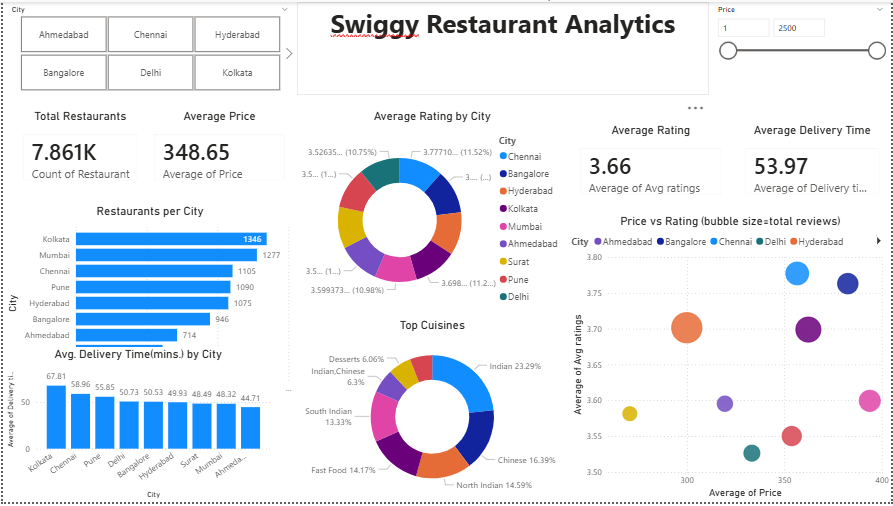

The page's visual inventory and layout, read from the dashboard file:
{"tool":"powerbi","page":{"name":"Page 1","canvas":[1280,720],"ordinal":0},"visuals":[{"type":"cardVisual","title":"Total Restaurants","fields":{"Data":["Count(swiggy.Restaurant)"]},"box":[11.8,154.5,199.9,120.9],"z":0},{"type":"cardVisual","title":"Average Price","fields":{"Data":["Avg(swiggy.Price)"]},"box":[199.9,154.5,223.4,120.9],"z":1000},{"type":"cardVisual","title":"Average Rating","fields":{"Data":["Avg(swiggy.Avg ratings)"]},"box":[813,174.7,238.5,120.9],"z":2000},{"type":"cardVisual","title":"Average Delivery Time","fields":{"Data":["Avg(swiggy.Delivery time)"]},"box":[1051.5,174.7,228.5,120.9],"z":3000},{"type":"barChart","title":"Restaurants per City","fields":{"Category":["swiggy.City"],"Y":["CountNonNull(swiggy.Restaurant)"]},"box":[0,290.6,423.3,295.6],"z":4000},{"type":"donutChart","title":"Average Rating by City","fields":{"Category":["swiggy.City"],"Y":["Avg(swiggy.Avg ratings)"]},"box":[423.3,154.5,389.7,300.7],"z":5000},{"type":"columnChart","title":"Avg. Delivery Time(mins.) by City","fields":{"Category":["swiggy.City"],"Y":["Avg(swiggy.Delivery time)"]},"box":[0,497.2,389.7,223.4],"z":6000},{"type":"scatterChart","title":"Price vs Rating (bubble size=total reviews)","fields":{"X":["Avg(swiggy.Price)"],"Y":["Avg(swiggy.Avg ratings)"],"Series":["swiggy.City"],"Size":["Sum(swiggy.Total ratings)"]},"box":[813,305.7,467,414.9],"z":7000},{"type":"slicer","fields":{"Values":["swiggy.City"]},"box":[0,0,423.3,134.4],"z":8000},{"type":"donutChart","title":"Top Cuisines","fields":{"Category":["swiggy.Food type"],"Y":["Count(swiggy.Restaurant)"]},"box":[423.3,455.2,389.7,265.4],"z":9000},{"type":"slicer","fields":{"Values":["swiggy.Price"]},"box":[1016.3,0,263.7,134.4],"z":10000},{"type":"textbox","box":[423.3,0,593,134.4],"z":10001}]}

Visuals, with their boxes in screenshot pixels (x1, y1, x2, y2), scaled from the page's 1280x720 canvas onto the 893x506 screenshot:
"Total Restaurants" cardVisual: [x1=8, y1=109, x2=148, y2=194]
"Average Price" cardVisual: [x1=139, y1=109, x2=295, y2=194]
"Average Rating" cardVisual: [x1=567, y1=123, x2=734, y2=208]
"Average Delivery Time" cardVisual: [x1=734, y1=123, x2=892, y2=208]
"Restaurants per City" barChart: [x1=0, y1=204, x2=295, y2=412]
"Average Rating by City" donutChart: [x1=295, y1=109, x2=567, y2=320]
"Avg. Delivery Time(mins.) by City" columnChart: [x1=0, y1=349, x2=272, y2=505]
"Price vs Rating (bubble size=total reviews)" scatterChart: [x1=567, y1=215, x2=892, y2=505]
slicer - swiggy.City: [x1=0, y1=0, x2=295, y2=94]
"Top Cuisines" donutChart: [x1=295, y1=320, x2=567, y2=505]
slicer - swiggy.Price: [x1=709, y1=0, x2=892, y2=94]
textbox: [x1=295, y1=0, x2=709, y2=94]
